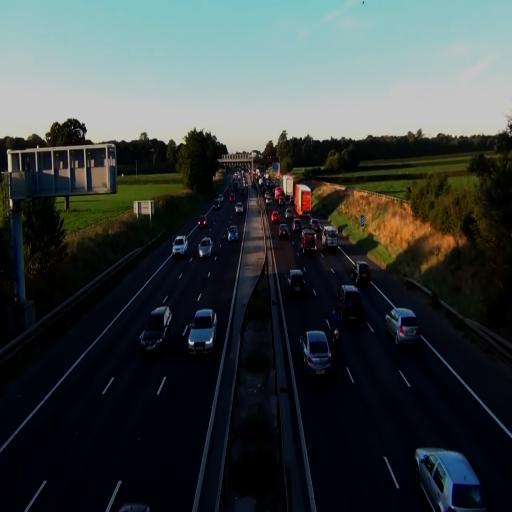vehicle: (414, 446, 486, 512), (139, 306, 173, 356), (300, 330, 333, 378), (384, 306, 420, 348), (187, 308, 217, 355), (337, 284, 363, 324), (293, 180, 312, 218), (286, 268, 306, 299), (354, 261, 372, 287), (323, 227, 339, 254), (300, 230, 318, 254), (198, 236, 214, 260), (172, 235, 188, 257), (227, 226, 239, 242)
